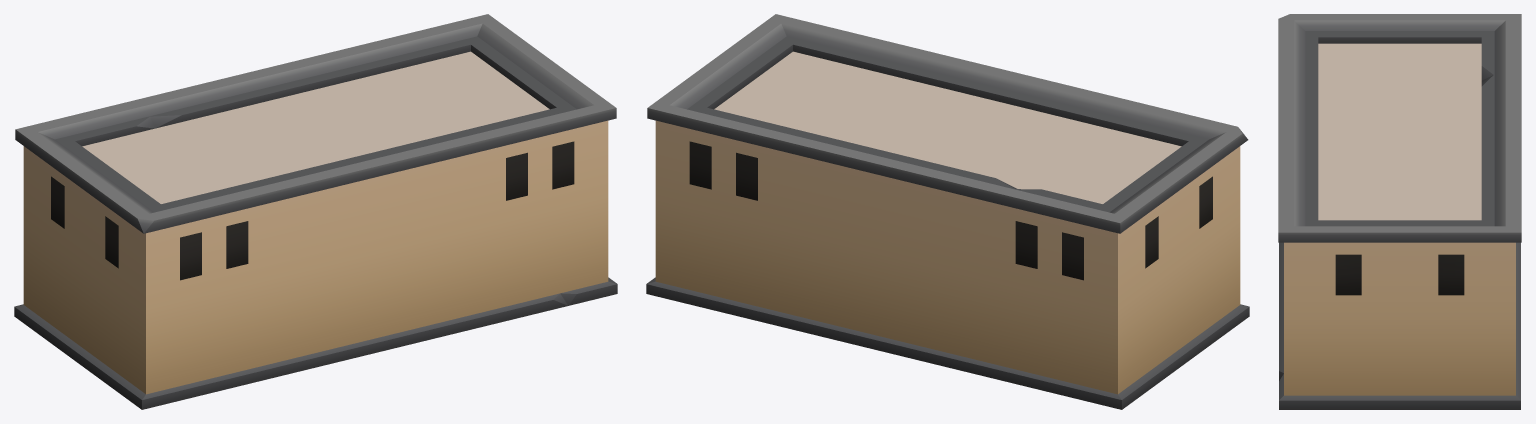
File: Fort Room 03.fbx
The picture shows the model from 3 angles, left to right: view 1: azimuth 30°, elevation 25°; view 2: azimuth 150°, elevation 25°; view 3: azimuth 270°, elevation 25°; orthographic projection. The views are drawn at different scales.
Visible parts, largest first — view 1: Fort Room 03 high, Fort Room 03, Fort Room 03 low; view 2: Fort Room 03 low, Fort Room 03 high, Fort Room 03; view 3: Fort Room 03 high, Fort Room 03, Fort Room 03 low.
Part boxes in pixels (x1,y1,x2,y2): Fort Room 03 high: (14,14,617,409); Fort Room 03: (16,14,617,402); Fort Room 03 low: (16,14,615,393); Fort Room 03 low: (651,14,1240,393); Fort Room 03 high: (646,17,1248,409); Fort Room 03: (646,39,1249,408); Fort Room 03 high: (1278,14,1521,409); Fort Room 03: (1279,14,1521,409); Fort Room 03 low: (1278,14,1521,395).
Size of the model in its own units: 17.64 by 6.61 by 8.25.
1 material, 1 textured.
